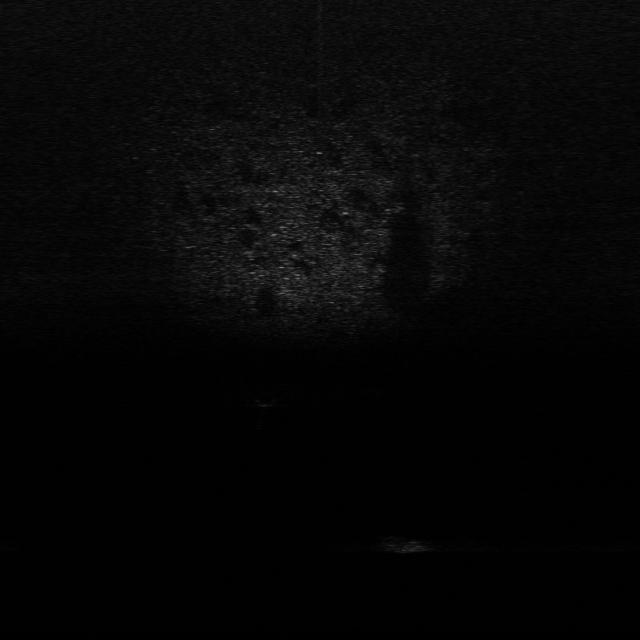ball: (251, 388, 278, 410)
metal bucket: (379, 530, 438, 556)
